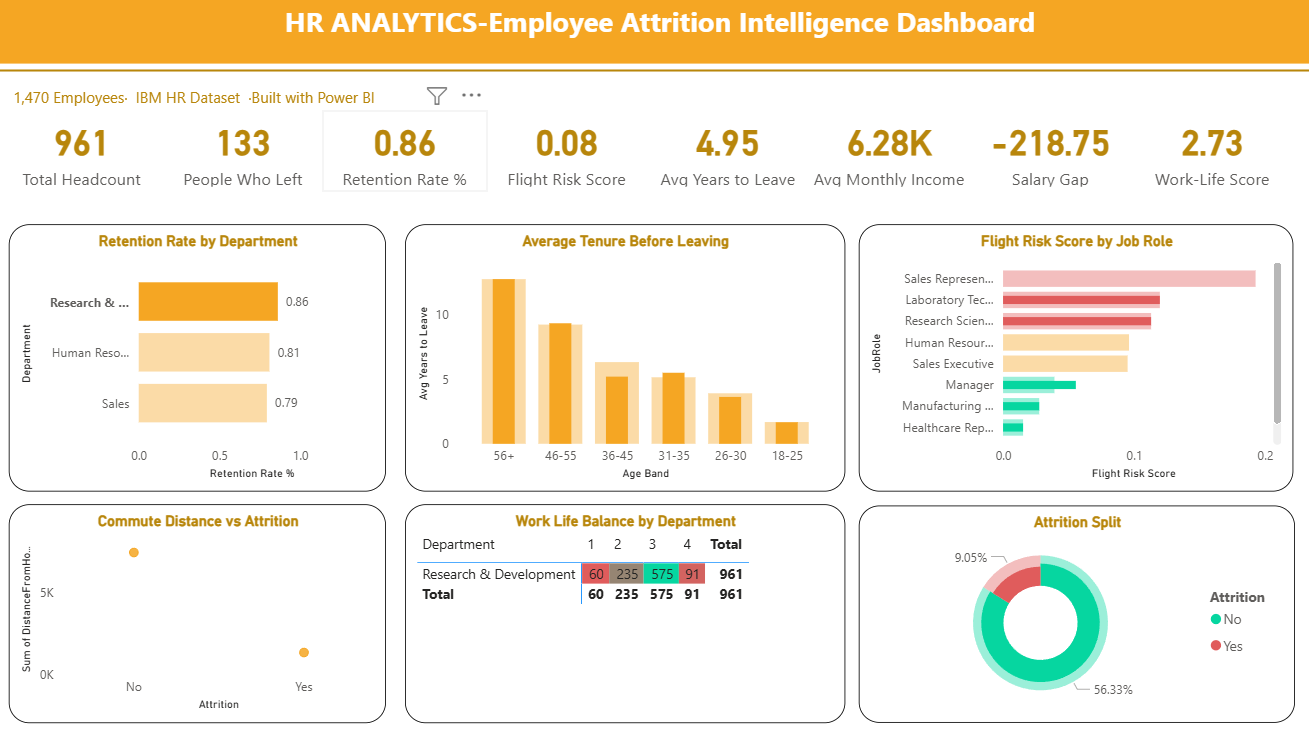

What the dashboard file says about the page in this screenshot:
{"tool":"powerbi","page":{"name":"Page 1","canvas":[1280,720],"ordinal":0},"visuals":[{"type":"textbox","box":[0,0,1280.5,63.6],"z":0},{"type":"textbox","box":[0,81.7,395.1,56.1],"z":1000},{"type":"shape","box":[0,11,1280.5,119.5],"z":2000},{"type":"card","fields":{"Values":["HR_Data.Total Headcount"]},"box":[0,109.8,159.8,79.3],"z":3000},{"type":"card","fields":{"Values":["HR_Data.Salary Gap"]},"box":[945.1,109.8,159.8,79.3],"z":4000},{"type":"card","fields":{"Values":["HR_Data.Work-Life Score"]},"box":[1102.4,109.8,161,79.3],"z":5000},{"type":"card","fields":{"Values":["HR_Data.Avg Monthly Income"]},"box":[787.8,109.8,159.8,79.3],"z":6000},{"type":"card","fields":{"Values":["HR_Data.Avg Years to Leave"]},"box":[630.5,109.8,159.8,79.3],"z":7000},{"type":"card","fields":{"Values":["HR_Data.Flight Risk Score"]},"box":[473.2,109.8,159.8,79.3],"z":8000},{"type":"card","fields":{"Values":["HR_Data.People Who Left"]},"box":[157.3,109.8,159.8,79.3],"z":9000},{"type":"card","fields":{"Values":["HR_Data.Retention Rate %"]},"box":[314.6,109.8,161,79.3],"z":10000},{"type":"clusteredBarChart","title":"Retention Rate by Department","fields":{"Category":["HR_Data.Department"],"Y":["HR_Data.Retention Rate %"]},"box":[8.5,220.7,368.3,261],"z":11000},{"type":"clusteredBarChart","title":"Flight Risk Score by Job Role","fields":{"Category":["HR_Data.JobRole"],"Y":["HR_Data.Flight Risk Score"]},"box":[837.8,220.7,424.4,261],"z":12000},{"type":"clusteredColumnChart","title":"Average Tenure Before Leaving","fields":{"Category":["HR_Data.Age Band"],"Y":["HR_Data.Avg Years to Leave"]},"box":[395.1,220.7,429.3,261],"z":13000},{"type":"scatterChart","title":"Commute Distance vs Attrition","fields":{"X":["HR_Data.Attrition"],"Y":["Sum(HR_Data.DistanceFromHome)"]},"box":[8.5,493.9,368.3,213.4],"z":14000},{"type":"pivotTable","title":"Work Life Balance by Department","fields":{"Rows":["HR_Data.Department"],"Columns":["HR_Data.WorkLifeBalance"],"Values":["HR_Data.Total Headcount"]},"box":[395.1,493.9,429.3,213.4],"z":15000},{"type":"donutChart","title":"Attrition Split","fields":{"Category":["HR_Data.Attrition"],"Y":["HR_Data.Total Headcount"]},"box":[837.8,495.1,425.6,212.2],"z":16000}]}

Visuals, with their boxes in screenshot pixels (x1, y1, x2, y2), scaled from the page's 1280x720 canvas onto the 1309x732 screenshot:
textbox: <bbox>0, 0, 1308, 65</bbox>
textbox: <bbox>0, 83, 404, 140</bbox>
shape: <bbox>0, 11, 1308, 133</bbox>
card - HR_Data.Total Headcount: <bbox>0, 112, 163, 192</bbox>
card - HR_Data.Salary Gap: <bbox>967, 112, 1130, 192</bbox>
card - HR_Data.Work-Life Score: <bbox>1127, 112, 1292, 192</bbox>
card - HR_Data.Avg Monthly Income: <bbox>806, 112, 969, 192</bbox>
card - HR_Data.Avg Years to Leave: <bbox>645, 112, 808, 192</bbox>
card - HR_Data.Flight Risk Score: <bbox>484, 112, 647, 192</bbox>
card - HR_Data.People Who Left: <bbox>161, 112, 324, 192</bbox>
card - HR_Data.Retention Rate %: <bbox>322, 112, 486, 192</bbox>
"Retention Rate by Department" clusteredBarChart: <bbox>9, 224, 385, 490</bbox>
"Flight Risk Score by Job Role" clusteredBarChart: <bbox>857, 224, 1291, 490</bbox>
"Average Tenure Before Leaving" clusteredColumnChart: <bbox>404, 224, 843, 490</bbox>
"Commute Distance vs Attrition" scatterChart: <bbox>9, 502, 385, 719</bbox>
"Work Life Balance by Department" pivotTable: <bbox>404, 502, 843, 719</bbox>
"Attrition Split" donutChart: <bbox>857, 503, 1292, 719</bbox>
